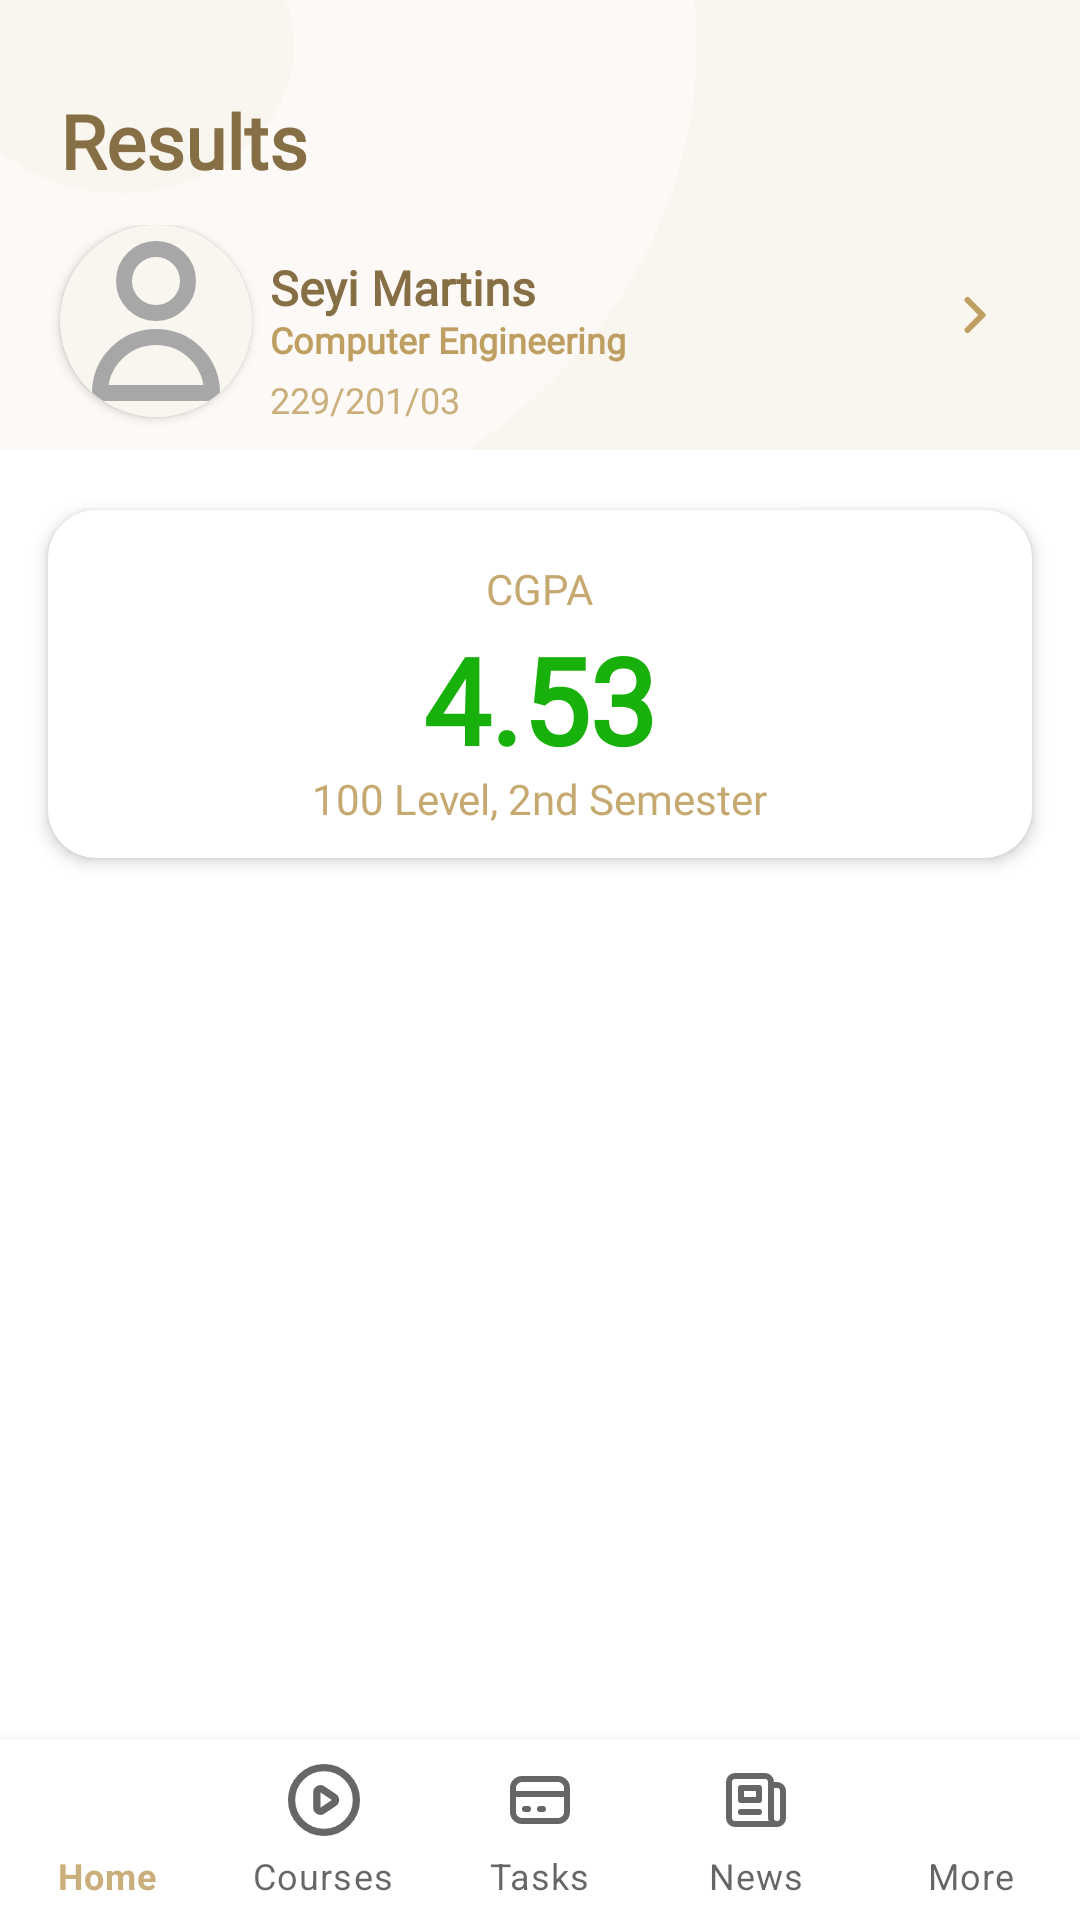

Icon bounding boxes for this 1080w x 1920h phone screenshot, format [x1, y1, x2, y2]:
person: [60, 225, 252, 417]
right arrow: [964, 297, 986, 333]
